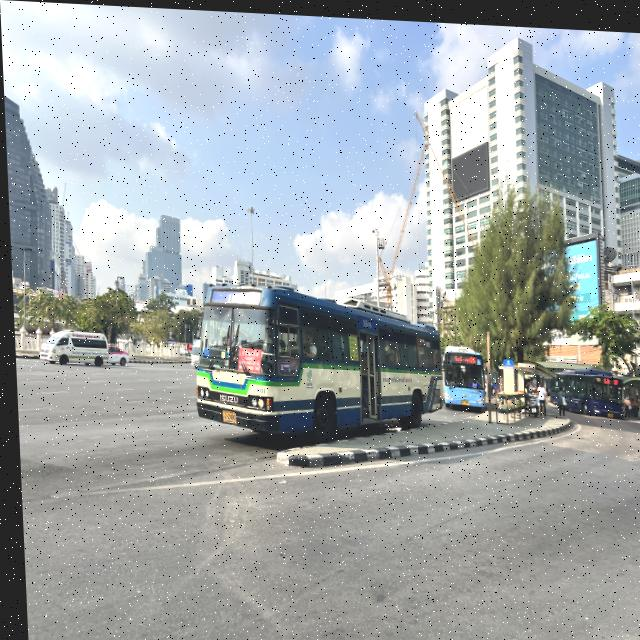BMTA-bus: (186, 280, 442, 448), (440, 339, 484, 413)
Bus-Line-Number: (221, 287, 243, 303), (466, 351, 473, 360)
Destination-Sign-Extra-Bus: (234, 344, 260, 374)
Destination-Sign-Normal: (466, 376, 476, 383)
TSB-Bus: (545, 358, 634, 415)
